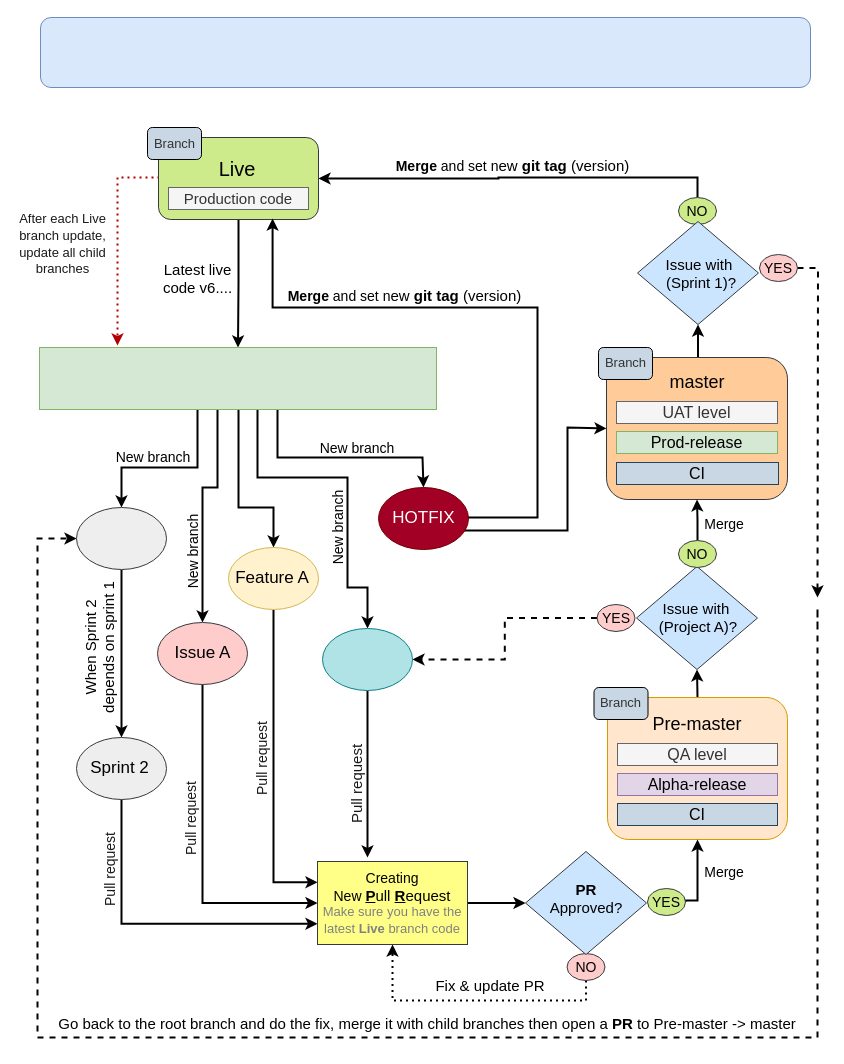
This 844x1064 diagram has some shape labels left out. The centre of each missing label's shape, as x and y in pixels:
"cs4alhaider git strategy" belongs at pixel 425 52.
"Project A" belongs at pixel 367 659.
"Sprint 1" belongs at pixel 121 538.
"Start working with new Projects/Sprints/Issues/CRs/Enhancements..." belongs at pixel 237 378.
